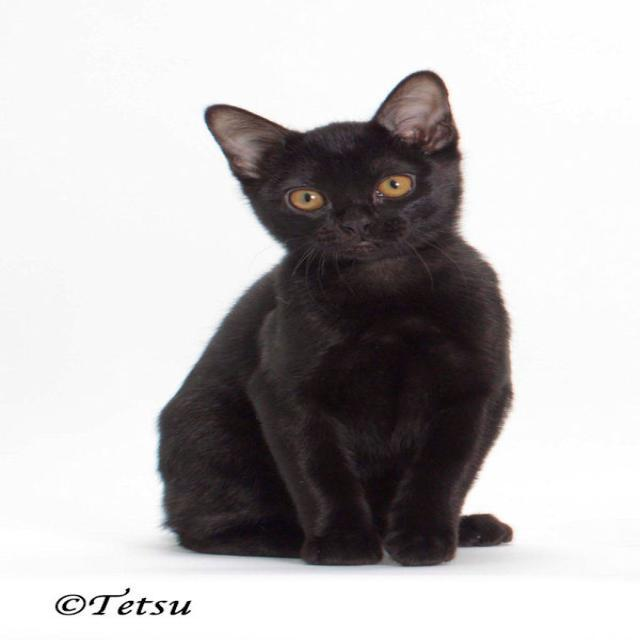Bombay: (199, 67, 509, 282)
